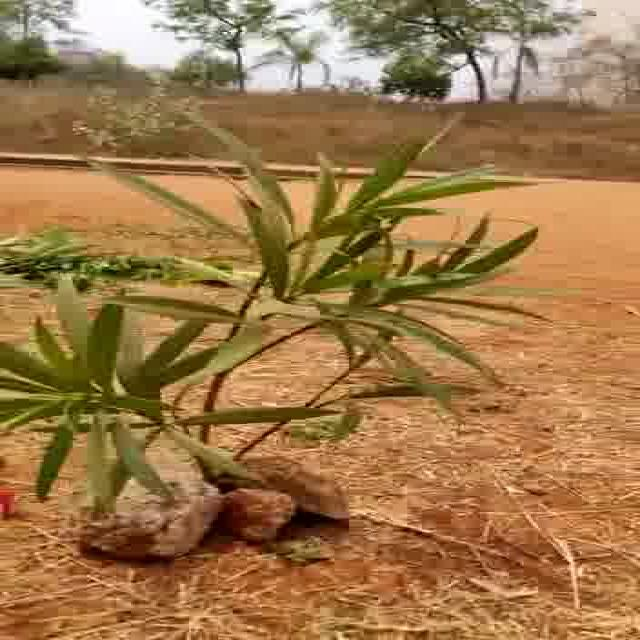OLEANDER: (0, 130, 576, 458)
